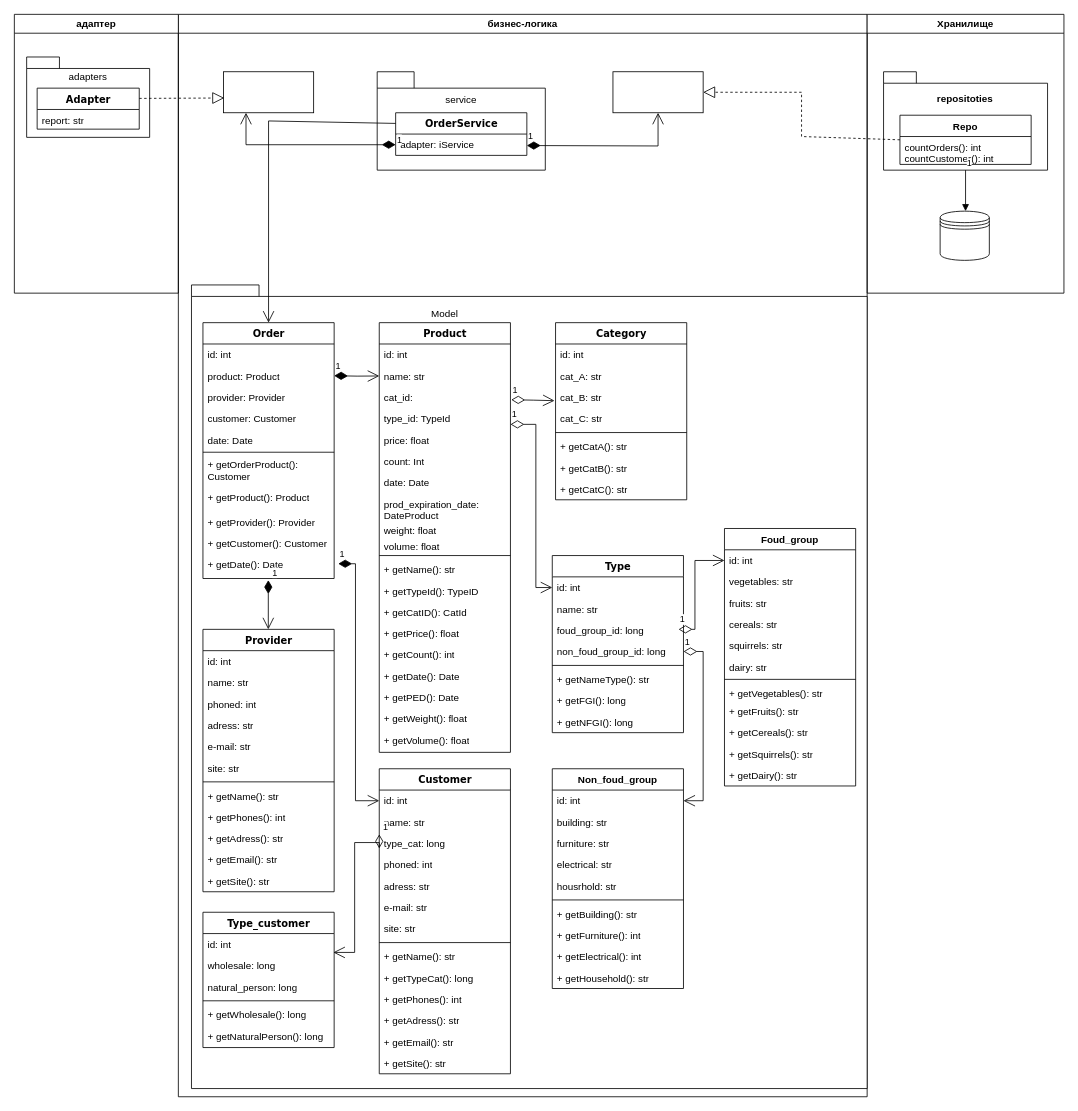
Some shapes in this 1078 by 1111 pixel diagram are drawn without their labels. The centre of each missing label's shape, as x and y in pixels:
«interface» iRepo: [657,92]
«interface» iService: [268,92]
